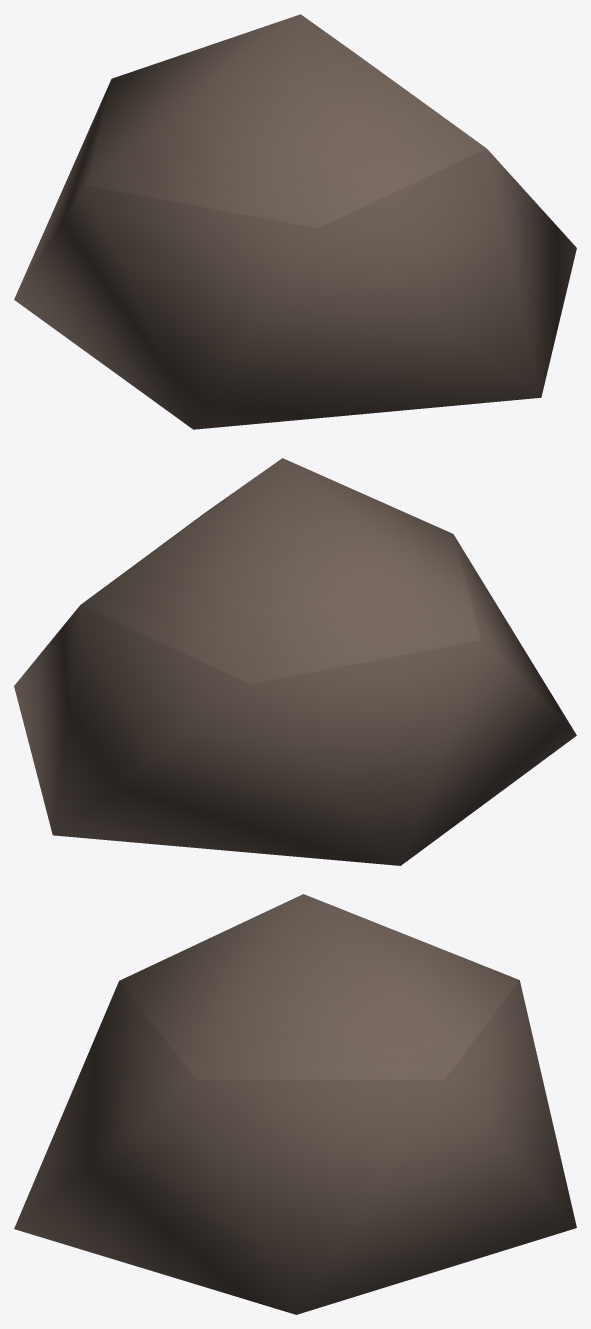
The model's file is trash_b.glb.
3 views of the same model, one above another, from view 1: azimuth 30°, elevation 25°; view 2: azimuth 150°, elevation 25°; view 3: azimuth 270°, elevation 25° (orthographic). The views are drawn at different scales.
Visible parts, largest first — view 1: trash_B; view 2: trash_B; view 3: trash_B.
Part boxes in pixels (box(x1,y1,x2,y2)): trash_B: box(14, 14, 576, 429); trash_B: box(14, 458, 576, 865); trash_B: box(14, 894, 576, 1314).
Size of the model in its own units: 0.3063 by 0.1818 by 0.3188.
1 material, 1 textured.
